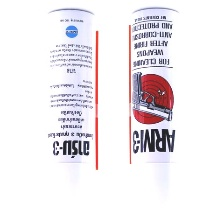aerosol_cans: (125, 4, 185, 219), (40, 4, 99, 220)
